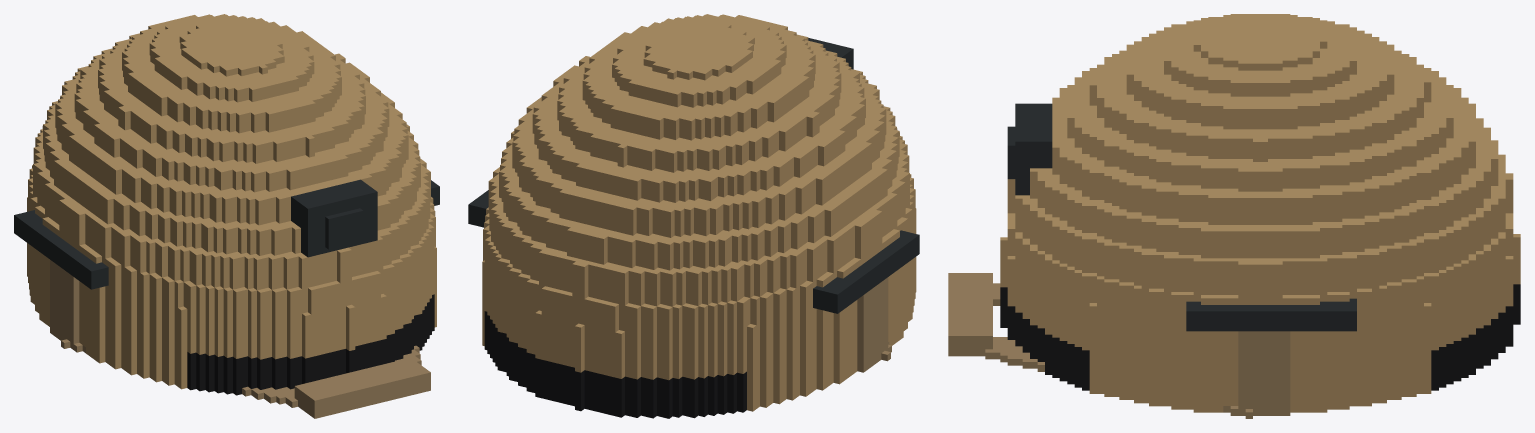
File: helmet_army.glb
3 views of the same model, side by side, from view 1: azimuth 30°, elevation 25°; view 2: azimuth 150°, elevation 25°; view 3: azimuth 270°, elevation 25° (orthographic). The views are drawn at different scales.
Parts seen in each view (by area): view 1: helmet_army:compound; view 2: helmet_army:compound; view 3: helmet_army:compound.
Part boxes in pixels (x1,y1,x2,y2): helmet_army:compound: (14,14,439,418); helmet_army:compound: (468,14,919,418); helmet_army:compound: (948,14,1520,418).
Size of the model in its own units: 0.24 by 0.168 by 0.308.
